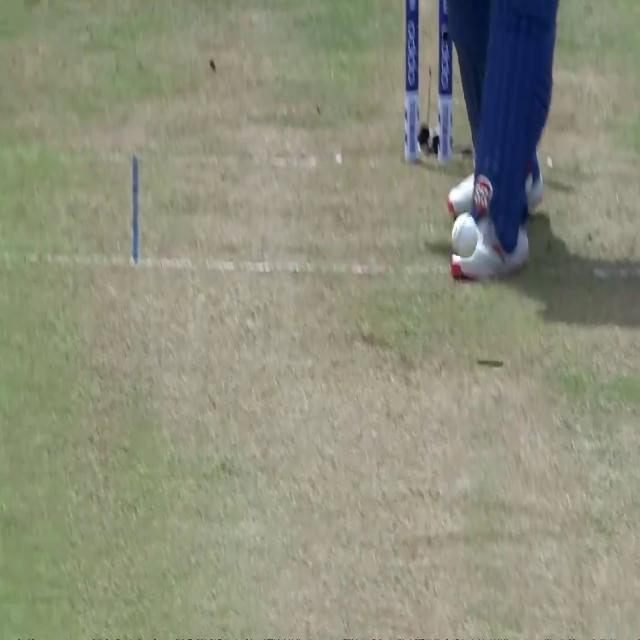ball: (450, 211, 480, 256)
